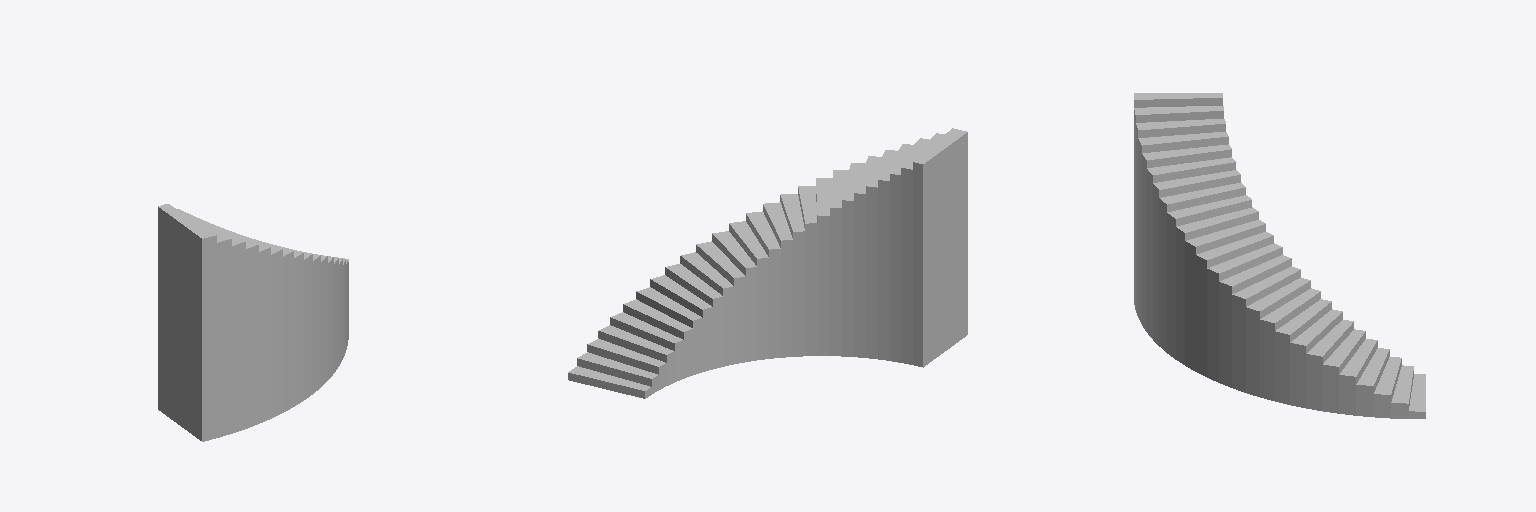
File: CurvedStairs.obj
3 renders of one model, left to right at view 1: azimuth 30°, elevation 25°; view 2: azimuth 150°, elevation 25°; view 3: azimuth 270°, elevation 25°, orthographic.
Parts seen in each view (by area): view 1: CurvedStairs; view 2: CurvedStairs; view 3: CurvedStairs.
Boxes of the visible parts, x1,y1,x2,y2 form: CurvedStairs: [158, 204, 348, 441]; CurvedStairs: [568, 128, 967, 398]; CurvedStairs: [1134, 93, 1425, 418].
Size of the model in its own units: 10.67 by 8.17 by 10.67.